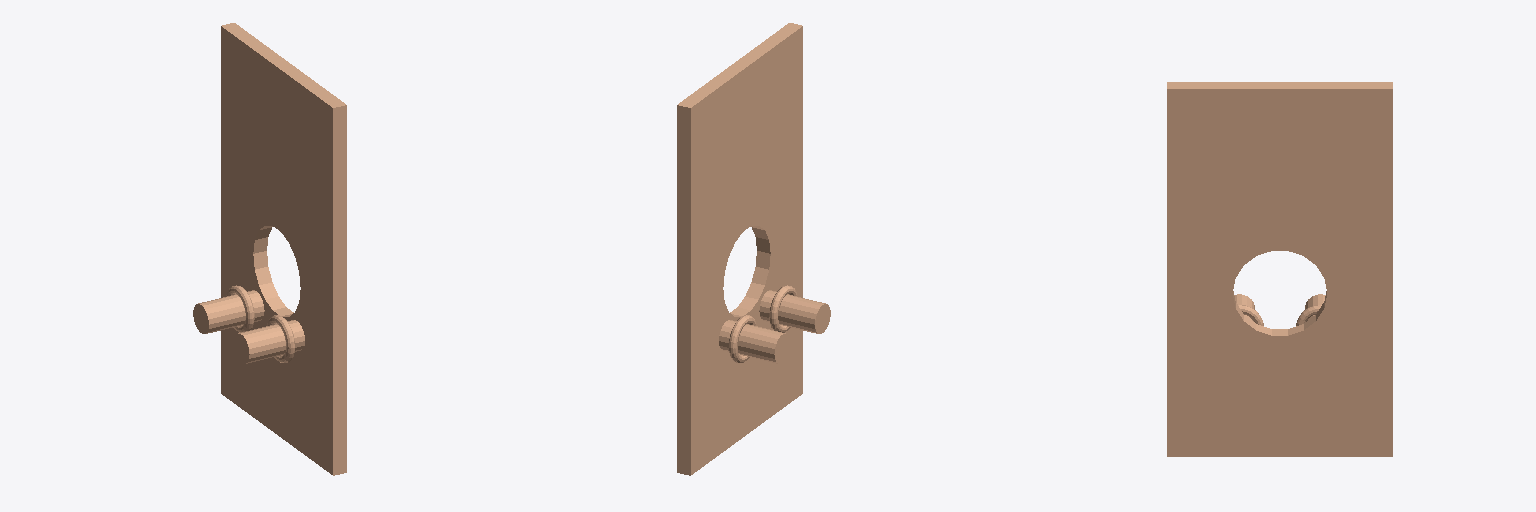
File: infrared_analyzer_fix_frame.obj
3 renders of one model, left to right at view 1: azimuth 30°, elevation 25°; view 2: azimuth 150°, elevation 25°; view 3: azimuth 270°, elevation 25°, orthographic.
Visible parts, largest first — view 1: infrared_analyzer_fix_frame; view 2: infrared_analyzer_fix_frame; view 3: infrared_analyzer_fix_frame.
Boxes of the visible parts, <box> form: infrared_analyzer_fix_frame: <box>193,23,346,475</box>; infrared_analyzer_fix_frame: <box>677,23,830,475</box>; infrared_analyzer_fix_frame: <box>1167,82,1392,456</box>.
Size of the model in its own units: 13.98 by 70.87 by 39.37.